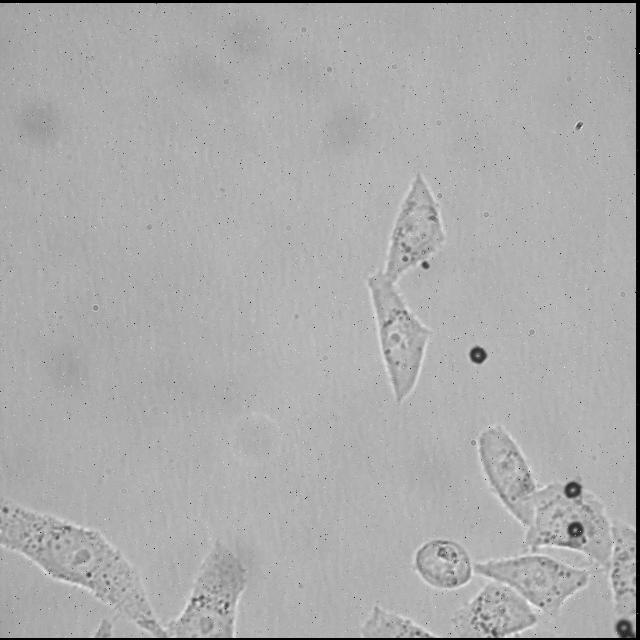microbeads: (466, 344, 490, 364), (568, 520, 586, 538), (614, 618, 632, 636), (562, 478, 578, 498)
